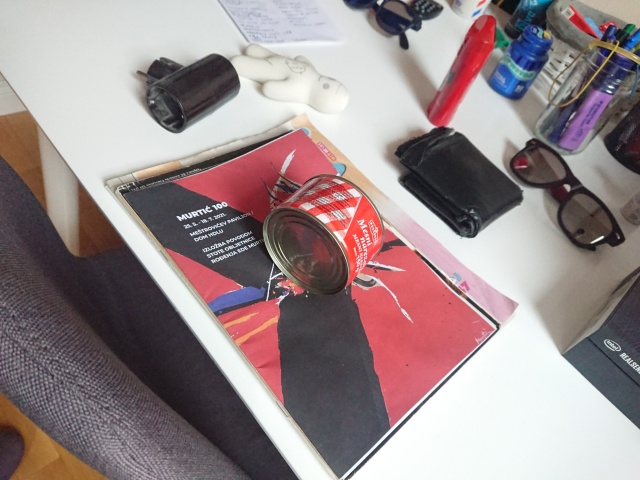Podravka Luncheon Meat 150g: (259, 171, 388, 299)
